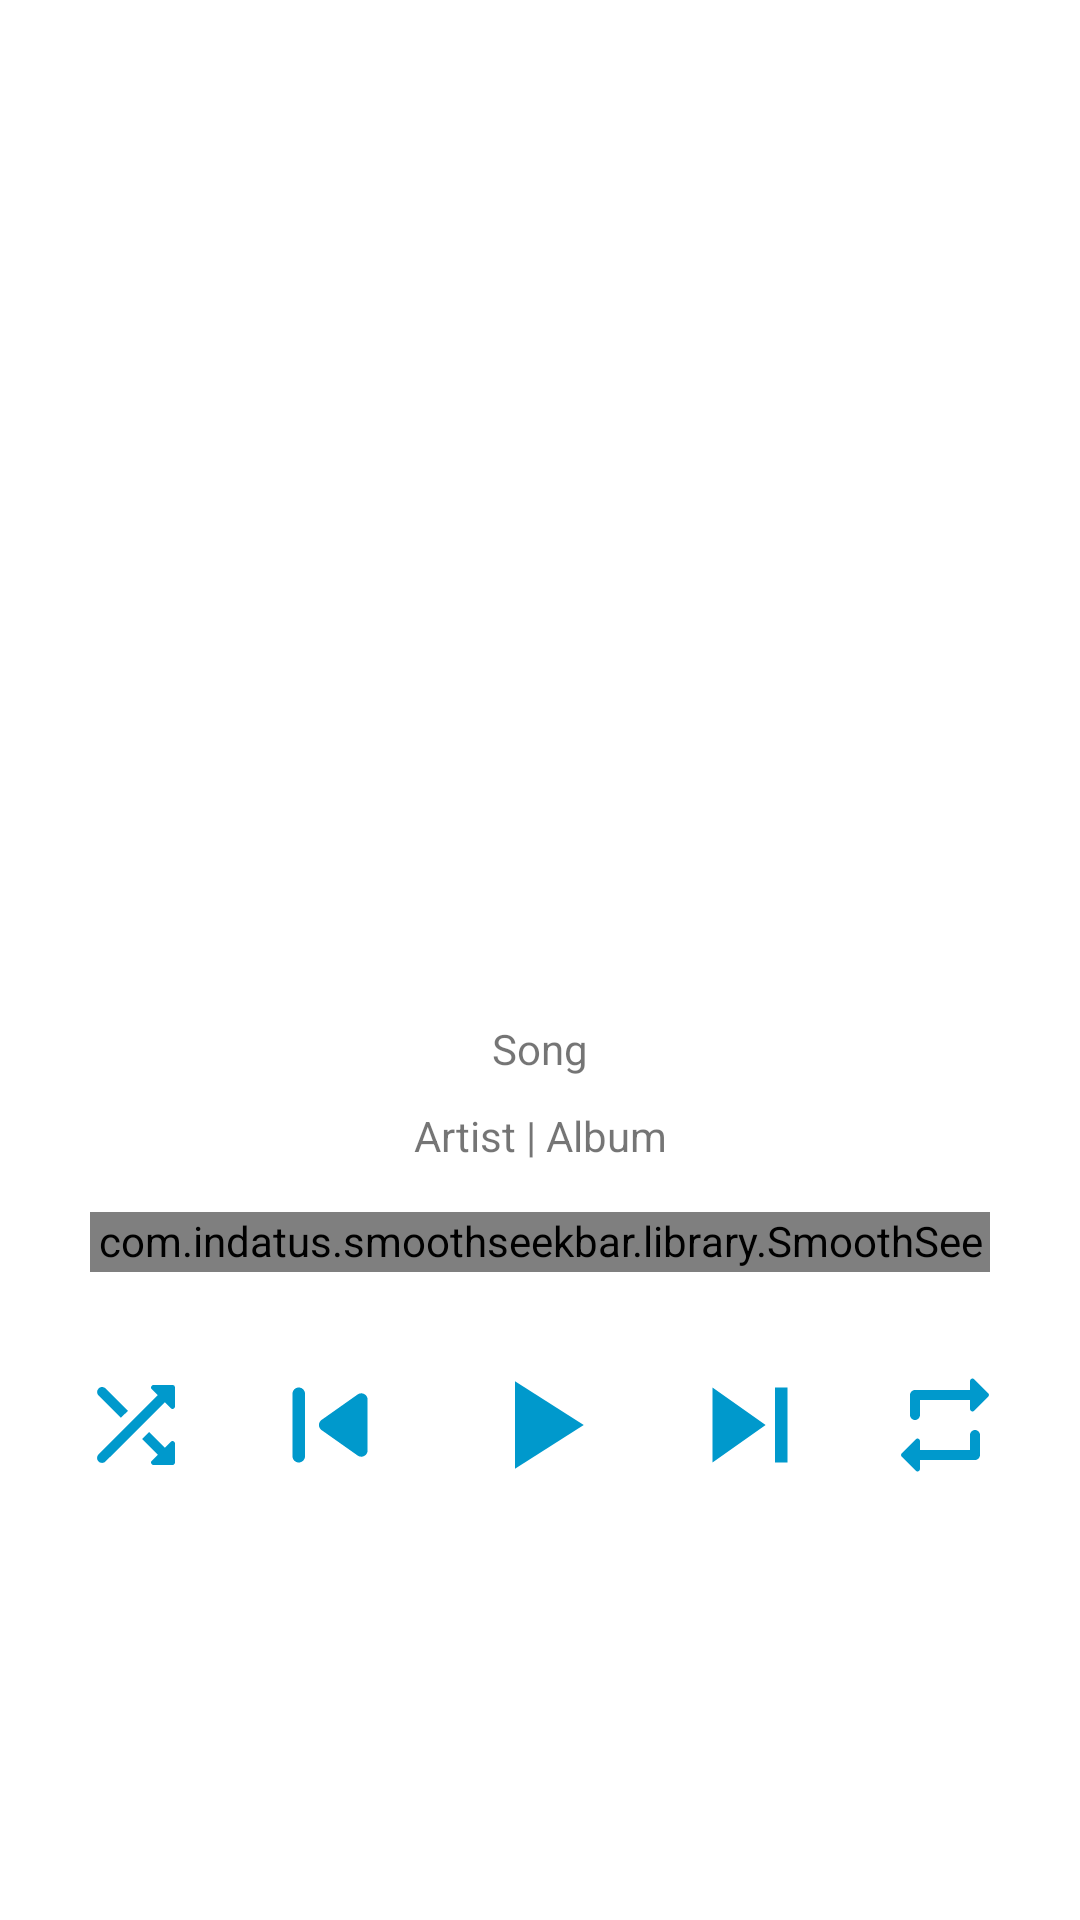

Locate icon controls on the screen. Image size 1080 x 1920, boxes as (x1=x1, y1=y1, x2=x2, y2=y2).
loop: (x1=901, y1=1378, x2=989, y2=1472)
next: (x1=712, y1=1387, x2=788, y2=1463)
play: (x1=515, y1=1381, x2=584, y2=1469)
previous: (x1=292, y1=1387, x2=368, y2=1463)
shuffle: (x1=97, y1=1385, x2=175, y2=1465)
